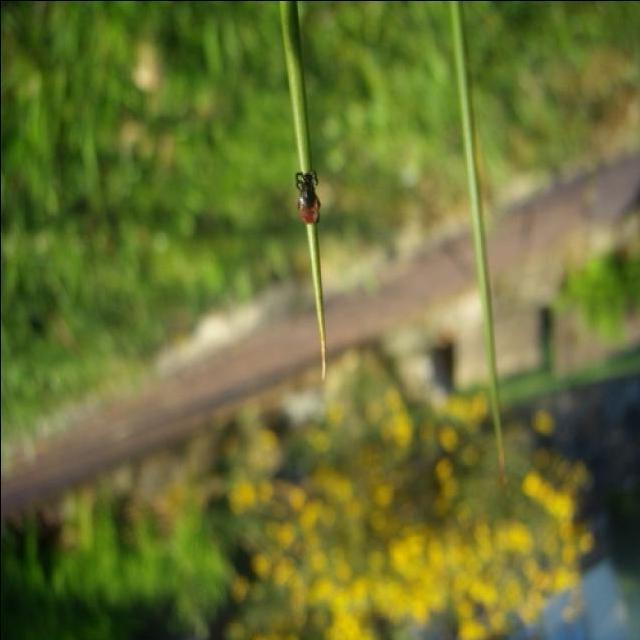Ixodes Ricinus-F: (292, 169, 320, 224)
